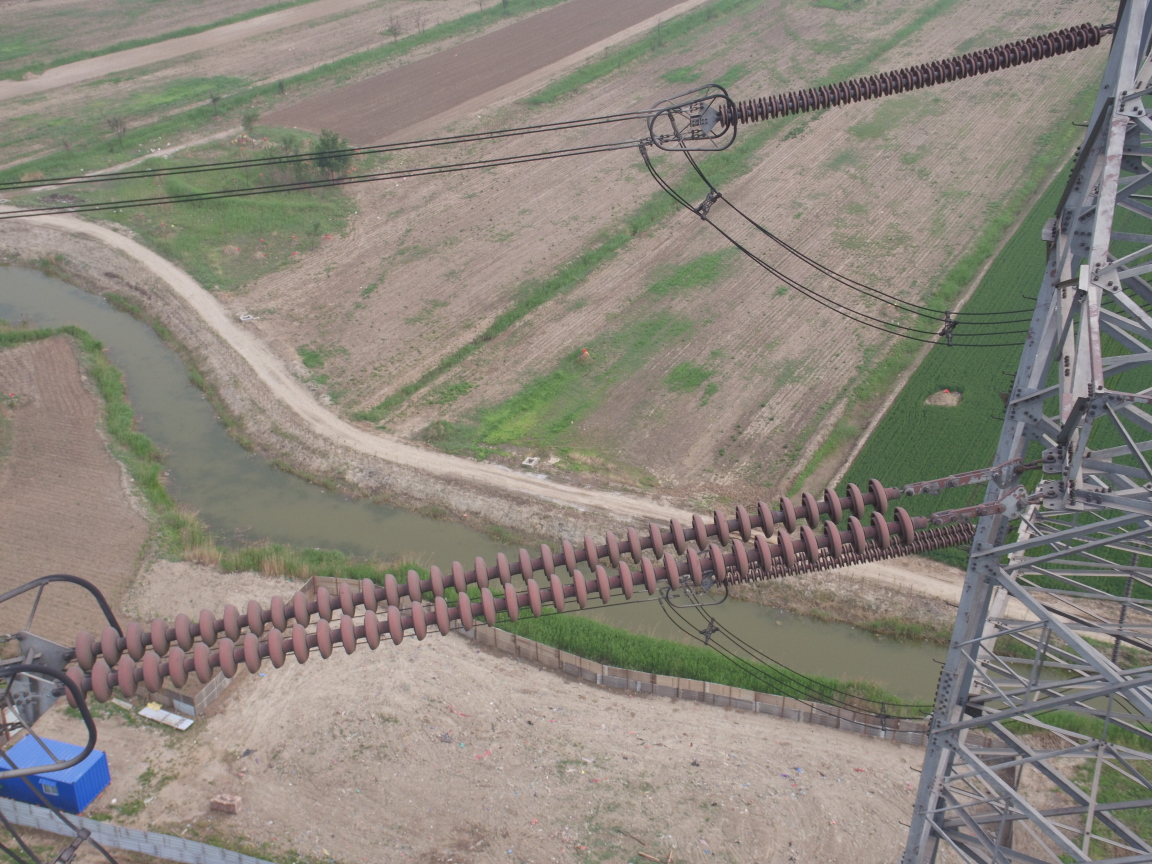insulator: (45, 464, 967, 714), (710, 16, 1112, 133)
